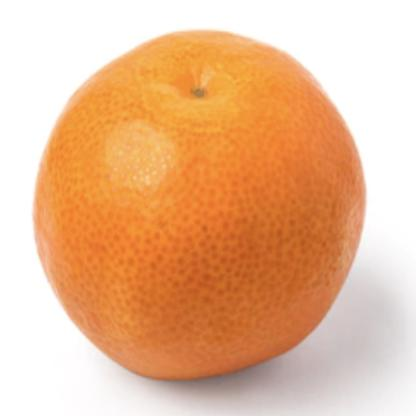fresh: (36, 30, 366, 375)
